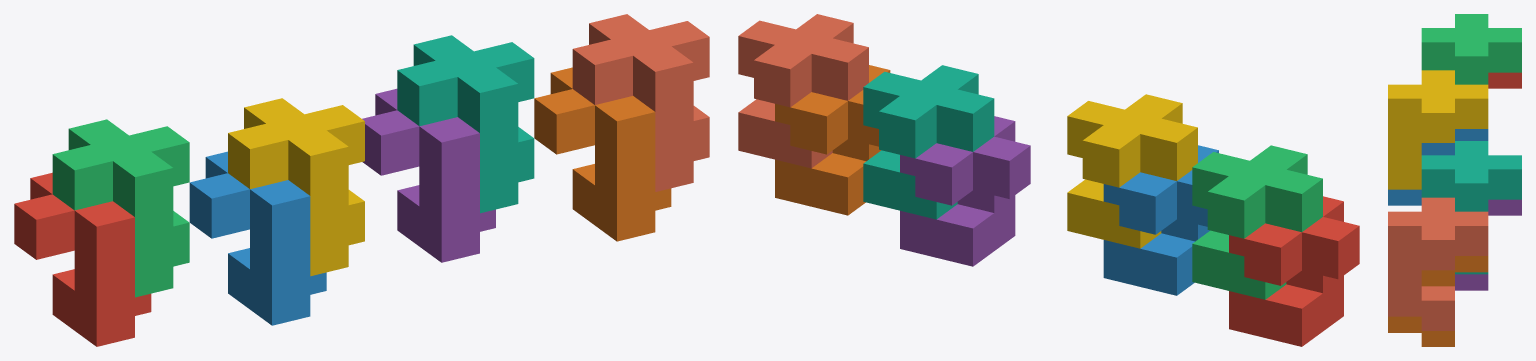
File: tiling.obj
3 views of the same model, side by side, from view 1: azimuth 30°, elevation 25°; view 2: azimuth 150°, elevation 25°; view 3: azimuth 270°, elevation 25° (orthographic). The views are drawn at different scales.
Visible parts, largest first — view 1: copy_1_domain_3, copy_1_domain_7, copy_1_domain_8, copy_1_domain_4, copy_1_domain_6, copy_1_domain_2, copy_1_domain_1, copy_1_domain_5; view 2: copy_1_domain_5, copy_1_domain_1, copy_1_domain_7, copy_1_domain_3, copy_1_domain_4, copy_1_domain_8, copy_1_domain_2, copy_1_domain_6; view 3: copy_1_domain_8, copy_1_domain_4, copy_1_domain_7, copy_1_domain_3, copy_1_domain_6, copy_1_domain_2, copy_1_domain_5, copy_1_domain_1.
Boxes of the visible parts, x1,y1,x2,y2 form: copy_1_domain_3: (52,119,189,297); copy_1_domain_7: (397,35,534,213); copy_1_domain_8: (572,14,709,191); copy_1_domain_4: (228,98,364,276); copy_1_domain_6: (534,67,671,241); copy_1_domain_2: (189,151,326,325); copy_1_domain_1: (14,172,151,346); copy_1_domain_5: (362,88,495,262); copy_1_domain_5: (900,116,1030,266); copy_1_domain_1: (1229,196,1359,346); copy_1_domain_7: (863,65,994,219); copy_1_domain_3: (1192,145,1322,299); copy_1_domain_4: (1067,94,1197,248); copy_1_domain_8: (738,14,868,168); copy_1_domain_2: (1103,145,1218,295); copy_1_domain_6: (775,65,890,215); copy_1_domain_8: (1388,197,1488,330); copy_1_domain_4: (1388,70,1488,189); copy_1_domain_7: (1421,141,1521,274); copy_1_domain_3: (1421,14,1521,84); copy_1_domain_6: (1388,256,1488,346); copy_1_domain_2: (1388,129,1488,205); copy_1_domain_5: (1455,199,1521,290); copy_1_domain_1: (1488,72,1521,88).
Size of the model in its own units: 17 by 4 by 4.
